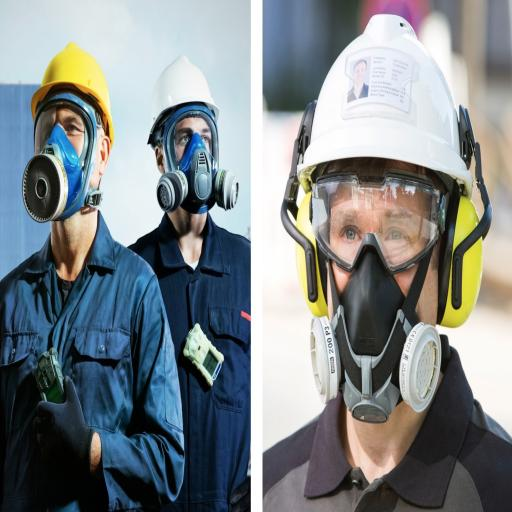mask: (297, 272, 447, 432), (10, 128, 97, 230), (152, 141, 242, 232)
